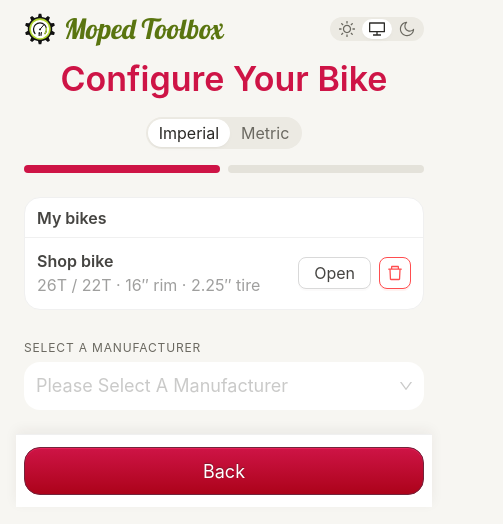
Scenario: My bikes › remembers bikes between visits and lets you delete one
expect the text "Shop bike" is shown: met, box [37,251,113,271]
Click the button named "Delete Shop bike" at (395, 273), box [379,257,411,289]
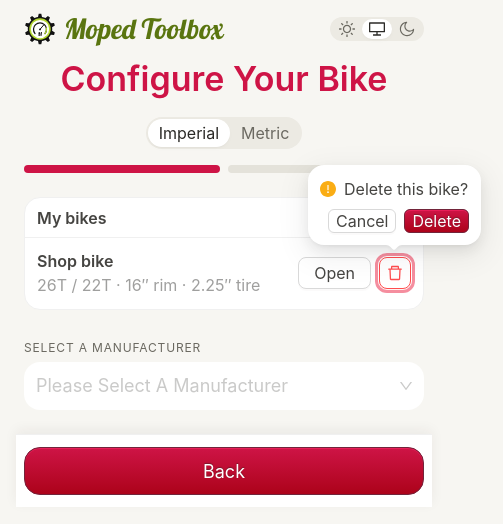
Click the button "Delete" at (437, 221), box [404,209,469,233]
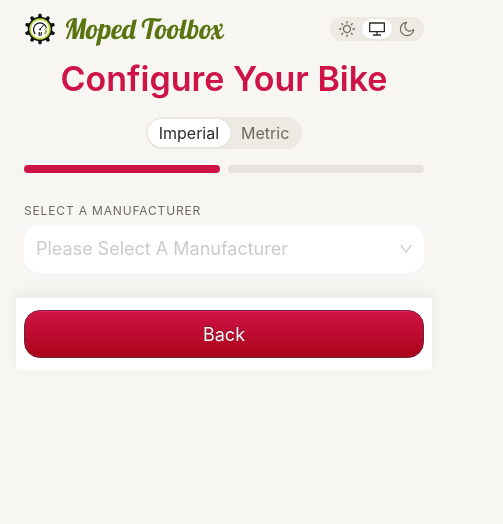
expect the text "My bikes" is gone: met
